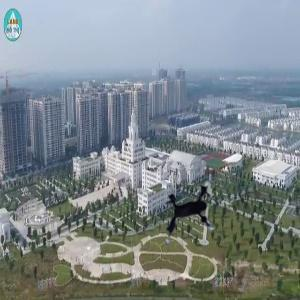drone: (150, 172, 239, 261)
